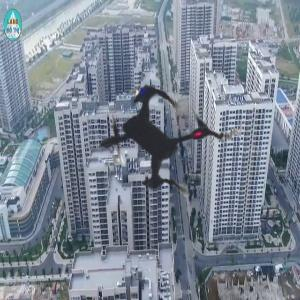drone: (32, 22, 277, 267)
